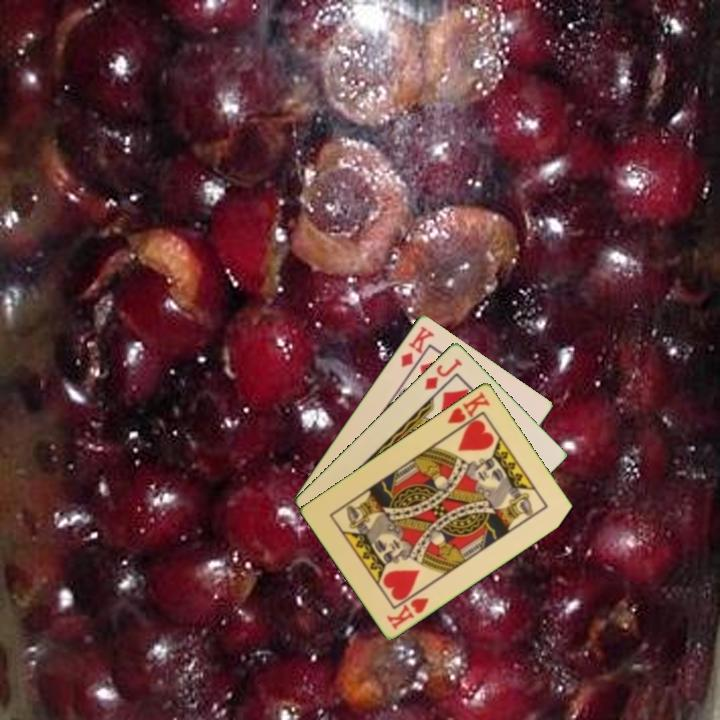Jd: (421, 354, 465, 393)
Kd: (397, 322, 437, 370)
Kh: (443, 388, 493, 435), (383, 593, 432, 632)
